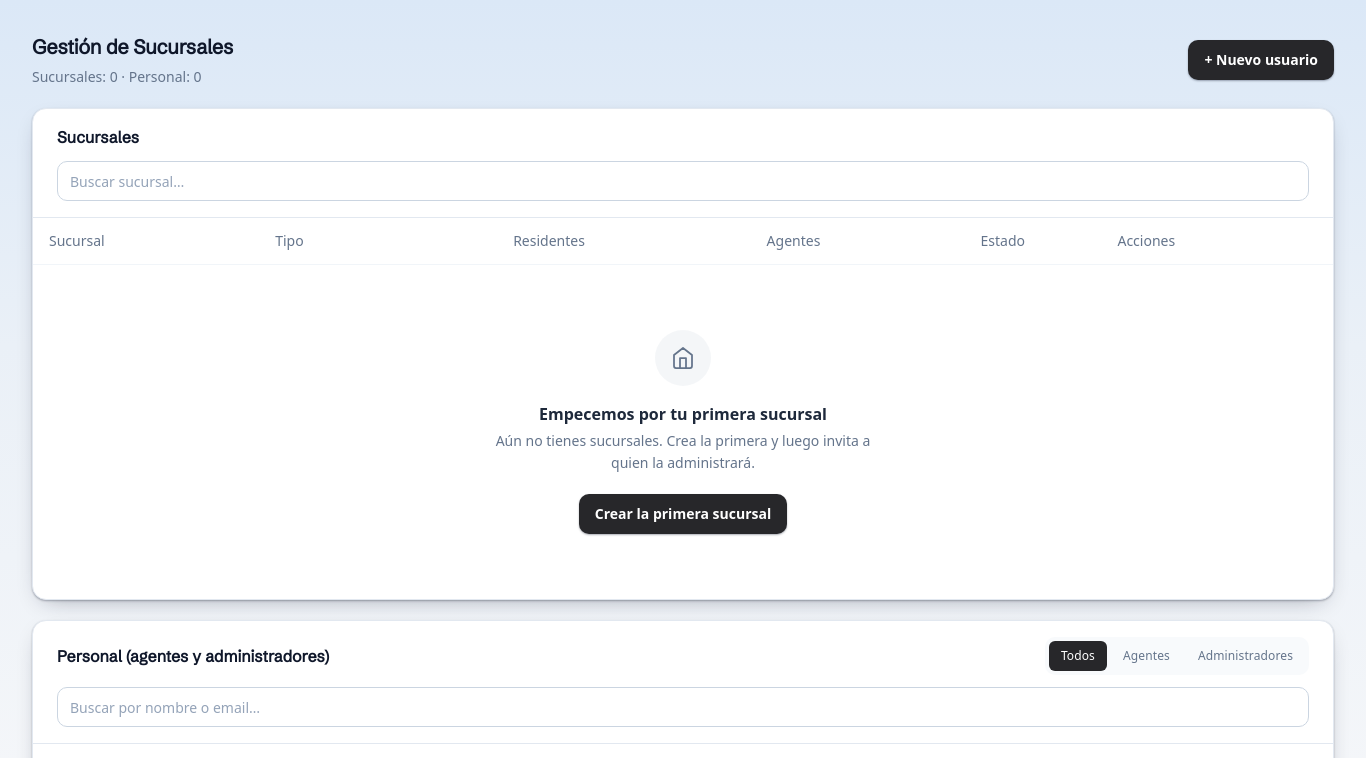
GestionSucursales — bienvenida, siguiente paso y contraseña › sin sucursales da la bienvenida con el primer paso
expect the text "Empecemos por tu primera sucursal" is shown: met, box 539,402 -> 827,426
Click the button "Crear la primera sucursal" at point(683, 514), box 579,494 -> 787,534
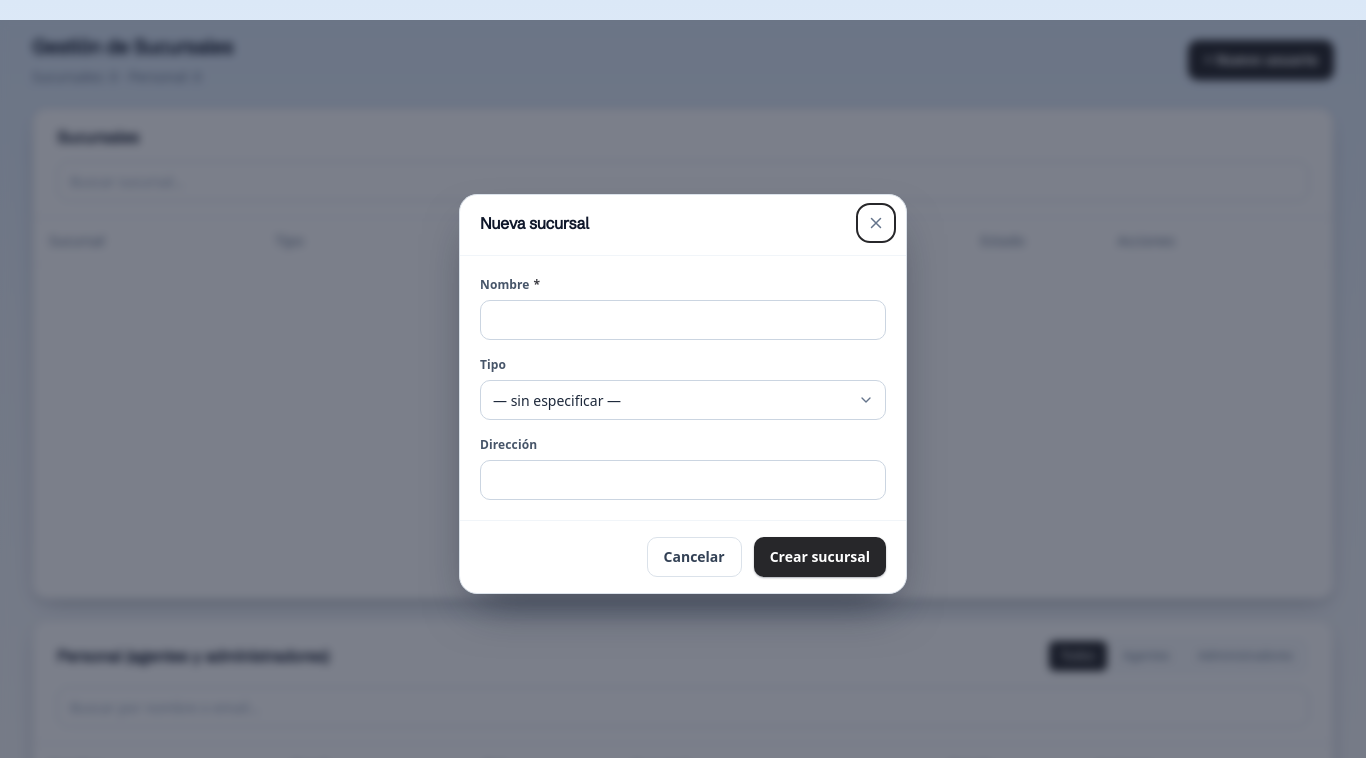
expect the dialog "Nueva sucursal" is shown: met, box 459,194 -> 907,594
